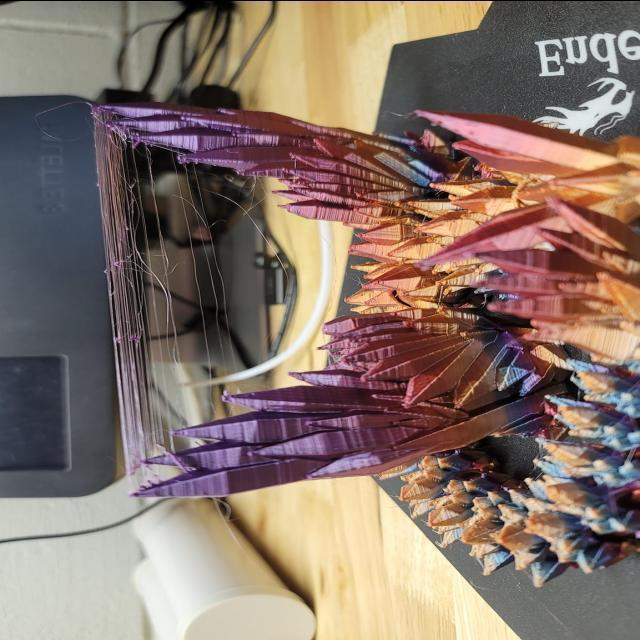stringing: (95, 212, 155, 302), (89, 130, 142, 208), (103, 307, 157, 375), (112, 382, 164, 451), (194, 252, 230, 306), (180, 207, 220, 255), (170, 168, 208, 208)
